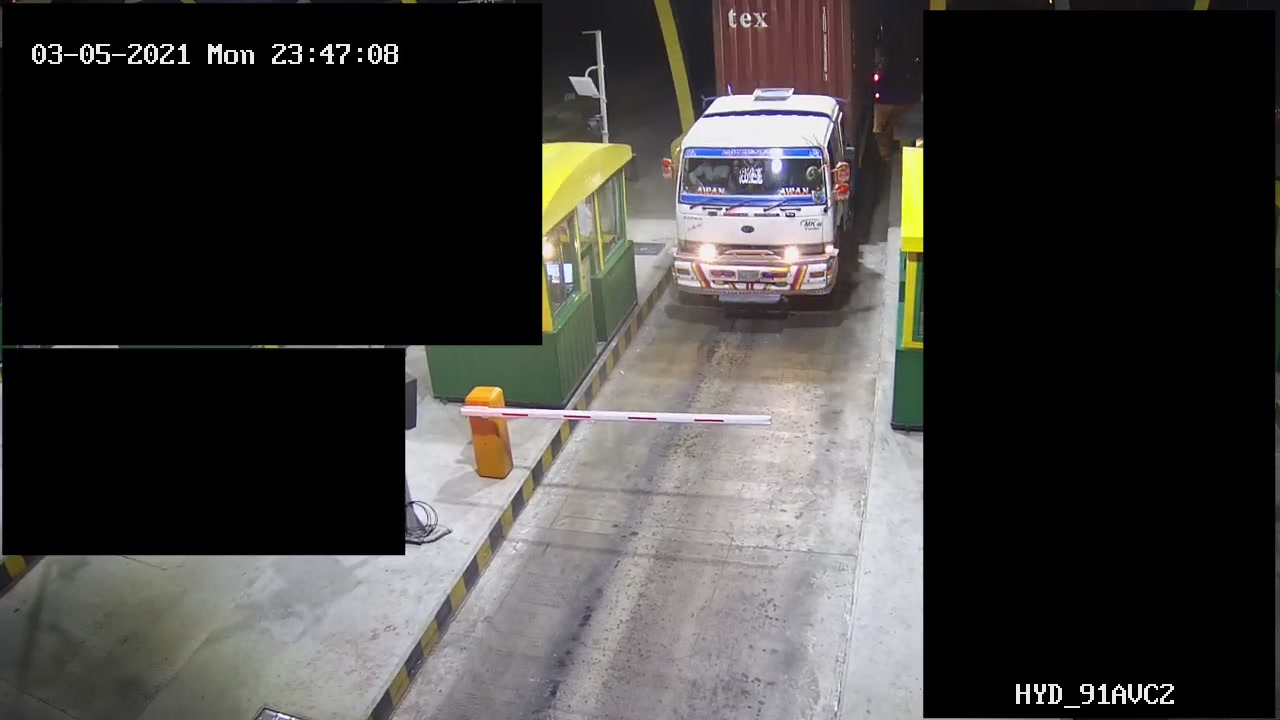F6: (659, 1, 882, 322)
